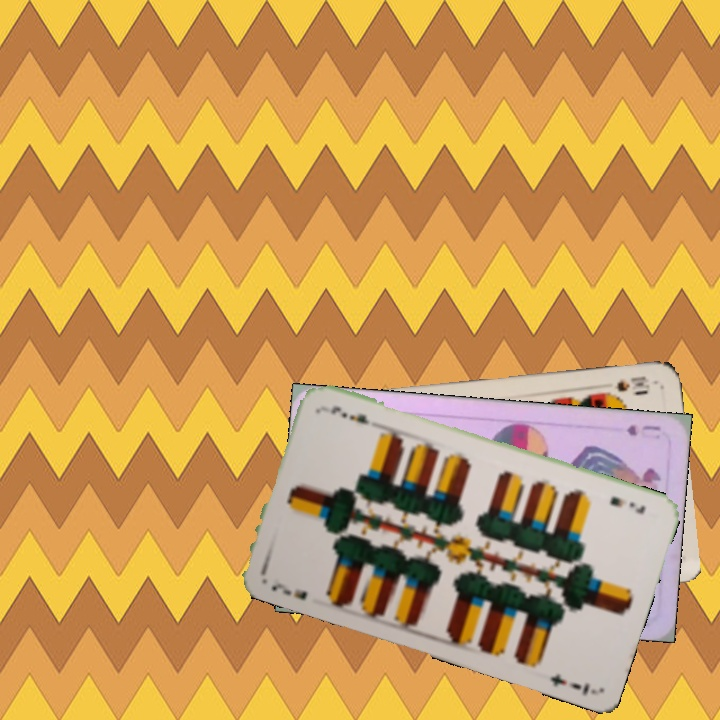E7: (605, 492, 648, 517), (267, 579, 310, 602)
S10: (599, 371, 653, 397)
SU: (622, 421, 663, 438)
